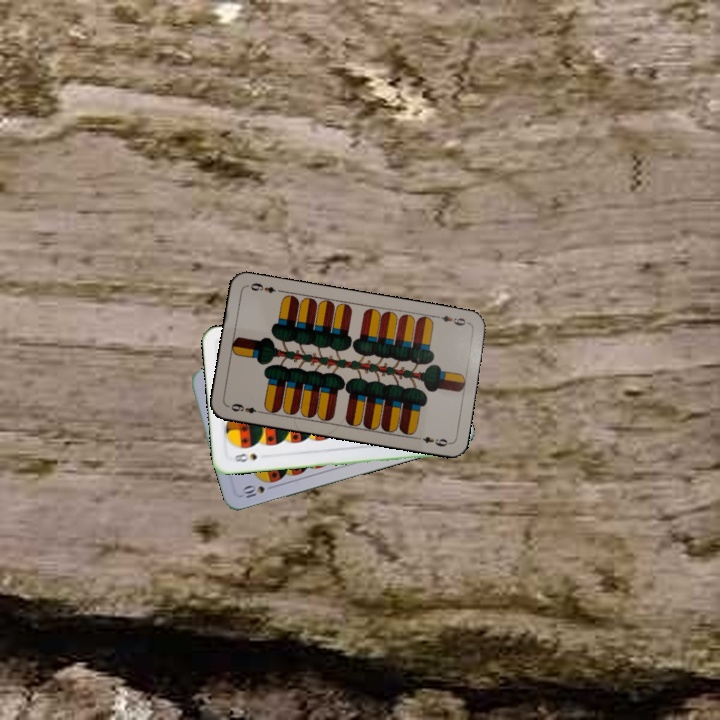E9: (225, 399, 265, 416), (431, 311, 471, 328)
S10: (238, 481, 277, 501)
S8: (231, 449, 259, 465)
